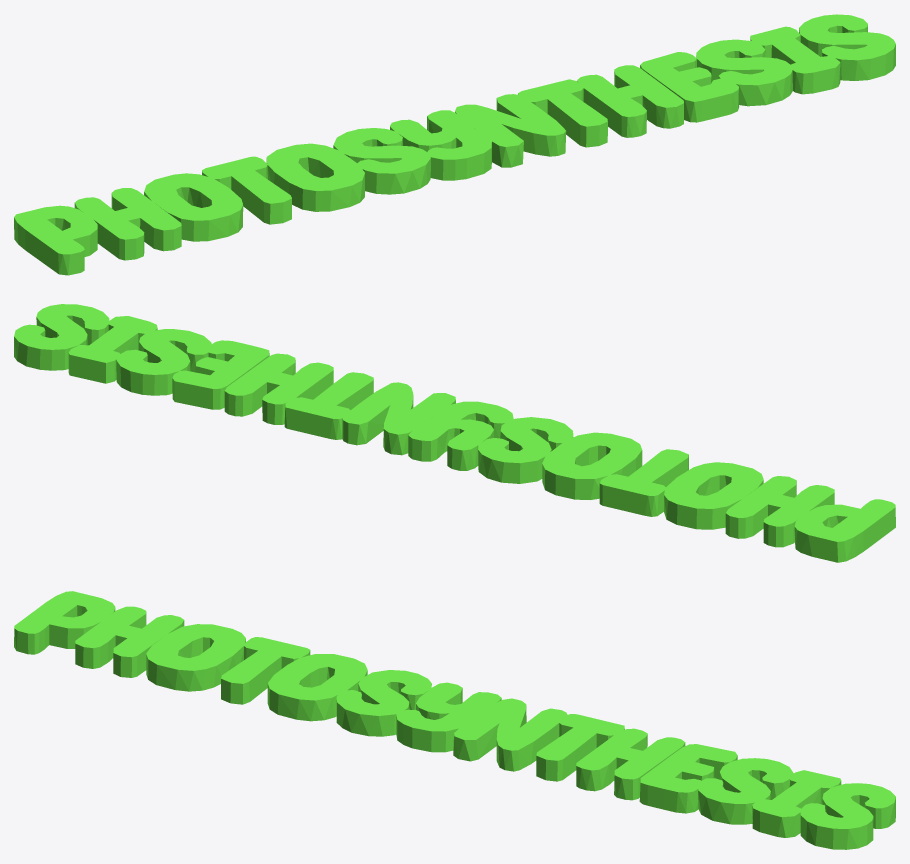
File: photosynthesis.fbx
The picture shows the model from 3 angles, top to bottom: view 1: azimuth 30°, elevation 25°; view 2: azimuth 150°, elevation 25°; view 3: azimuth 330°, elevation 25°; orthographic projection.
Visible parts, largest first — view 1: Text; view 2: Text; view 3: Text.
Part boxes in pixels (x1,y1,x2,y2): Text: [14, 14, 895, 275]; Text: [14, 304, 895, 562]; Text: [14, 591, 895, 849].
Size of the model in its own units: 525 by 12.37 by 61.4.
